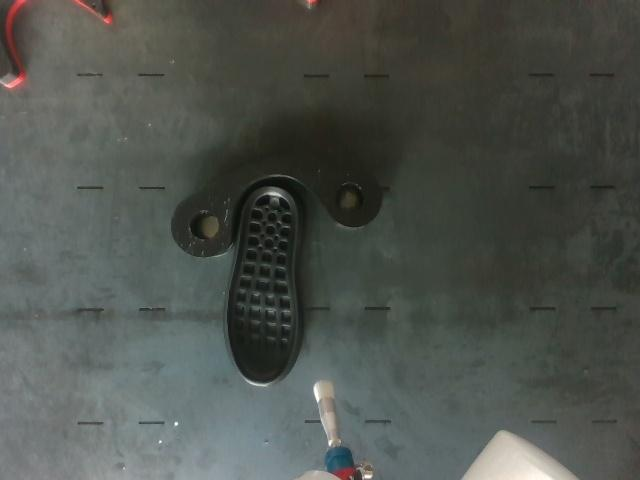shoes: (227, 187, 297, 385)
